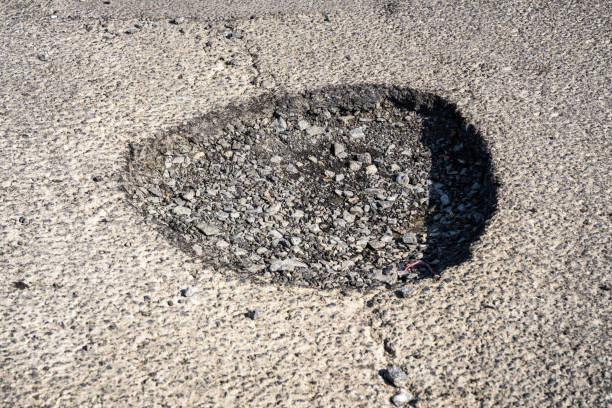potholes: (111, 74, 501, 300)
